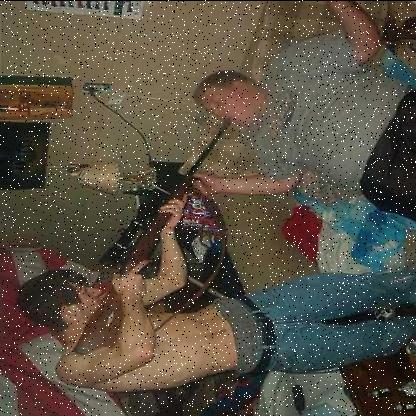rifle: (59, 109, 247, 366)
